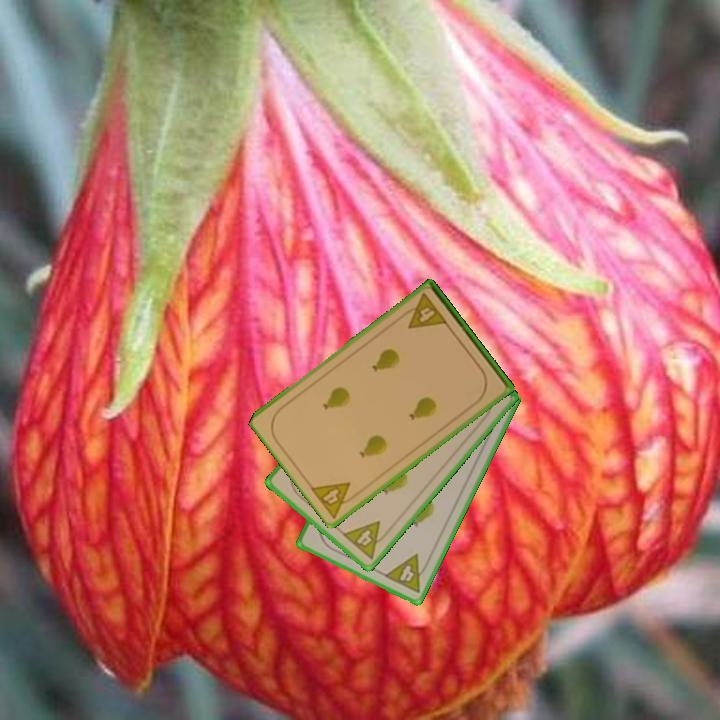4p: (339, 517, 393, 563), (381, 550, 433, 596), (307, 479, 363, 521), (398, 290, 450, 332)
